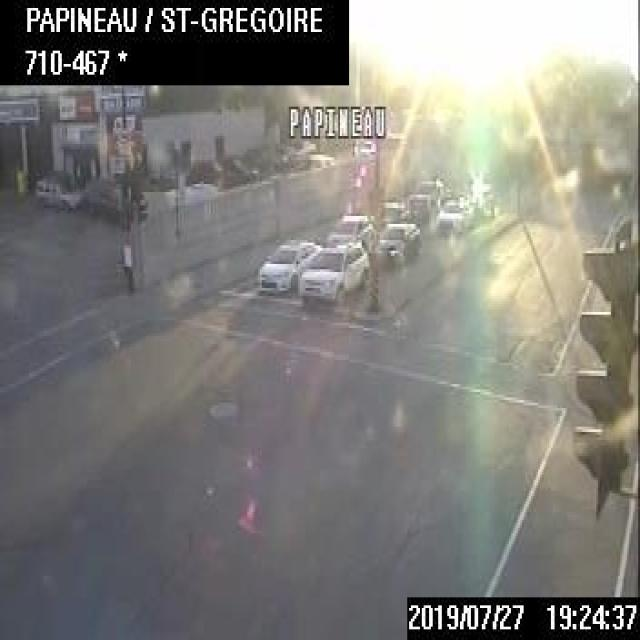vehicle: (298, 236, 369, 298), (256, 234, 322, 298), (81, 172, 144, 225), (372, 220, 420, 266), (324, 212, 375, 252), (35, 164, 79, 206), (407, 175, 442, 216), (435, 196, 470, 234)
